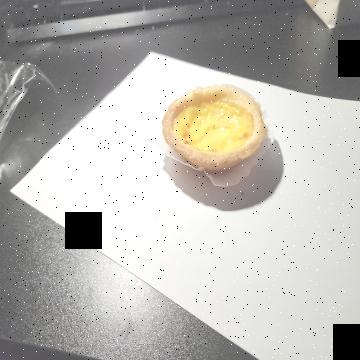EggTart: (162, 83, 267, 173)
